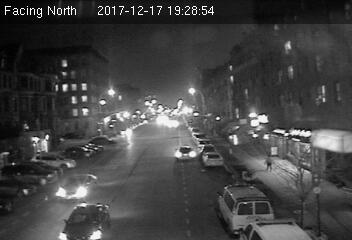car: (53, 173, 100, 203), (173, 145, 199, 163), (203, 153, 223, 167)
police: (216, 183, 275, 233)
